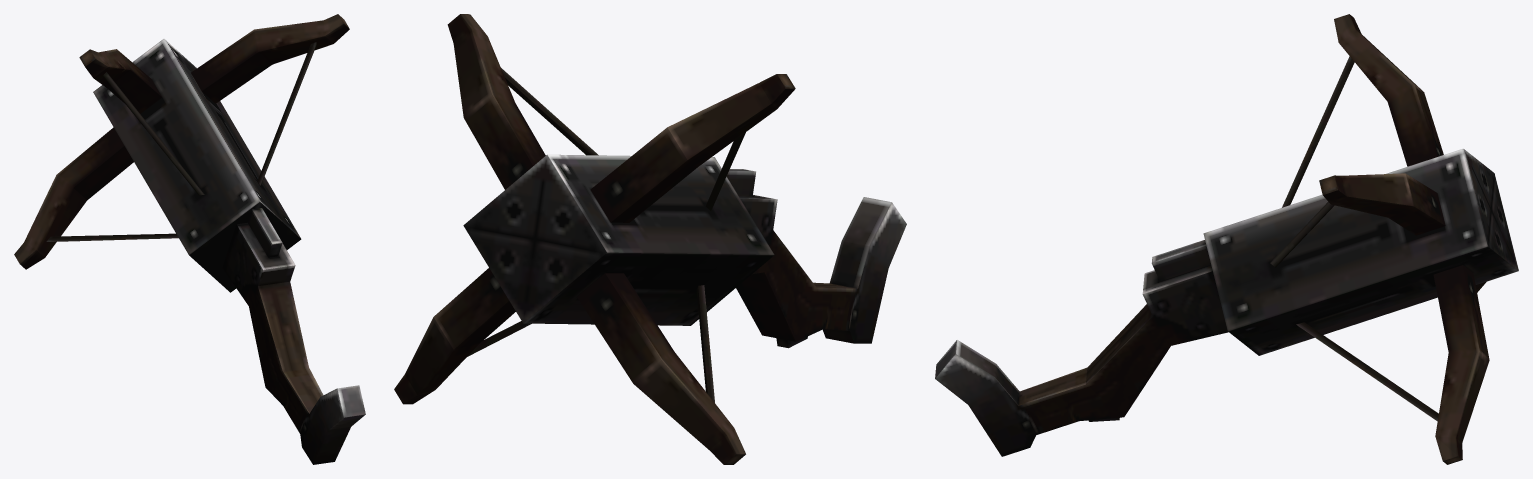
The model's file is crossbow18_ce216d72.glb.
3 renders of one model, left to right at view 1: azimuth 30°, elevation 25°; view 2: azimuth 150°, elevation 25°; view 3: azimuth 270°, elevation 25°, orthographic. The views are drawn at different scales.
Bounding box in the file's own units: 0.5529 × 0.635 × 0.8685.
Materials: 1 (1 with a texture image).
